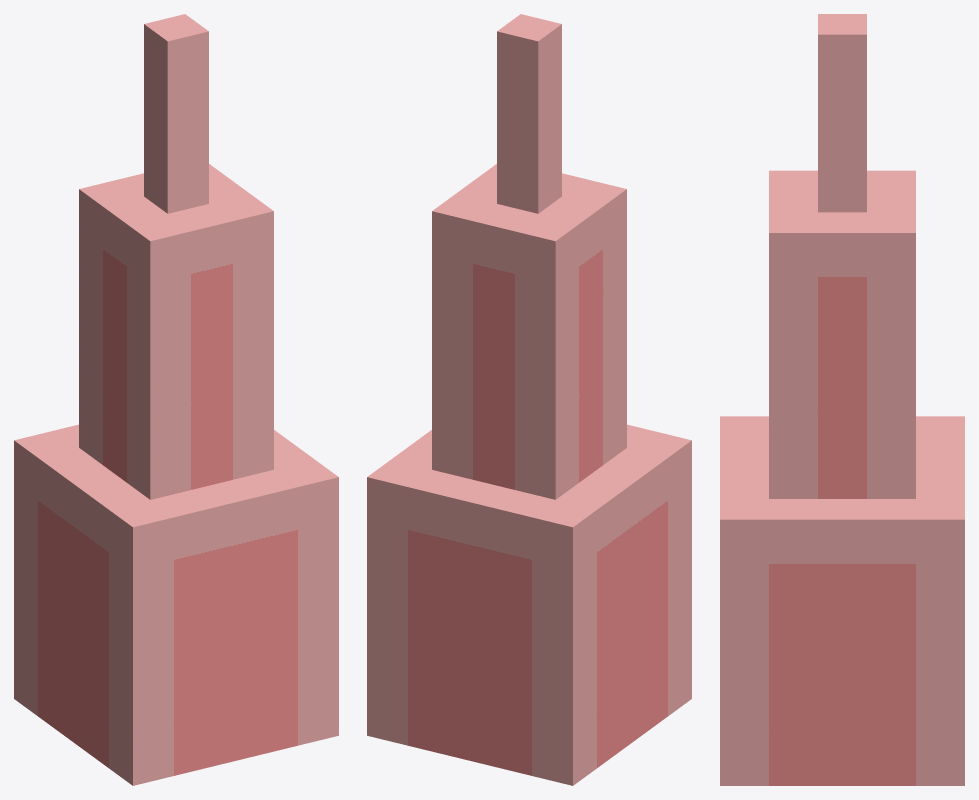
File: spike.obj
The picture shows the model from 3 angles, left to right: view 1: azimuth 30°, elevation 25°; view 2: azimuth 150°, elevation 25°; view 3: azimuth 270°, elevation 25°; orthographic projection. The views are drawn at different scales.
Parts seen in each view (by area): view 1: cube.002_Mesh_2; view 2: cube.002_Mesh_2; view 3: cube.002_Mesh_2.
Boxes of the visible parts, box(x1,y1,x2,y2) form: cube.002_Mesh_2: box(14, 14, 338, 785); cube.002_Mesh_2: box(367, 14, 691, 785); cube.002_Mesh_2: box(720, 14, 964, 785).
Size of the model in its own units: 0.3125 by 1 by 0.3125.
Materials: 1 (1 with a texture image).
